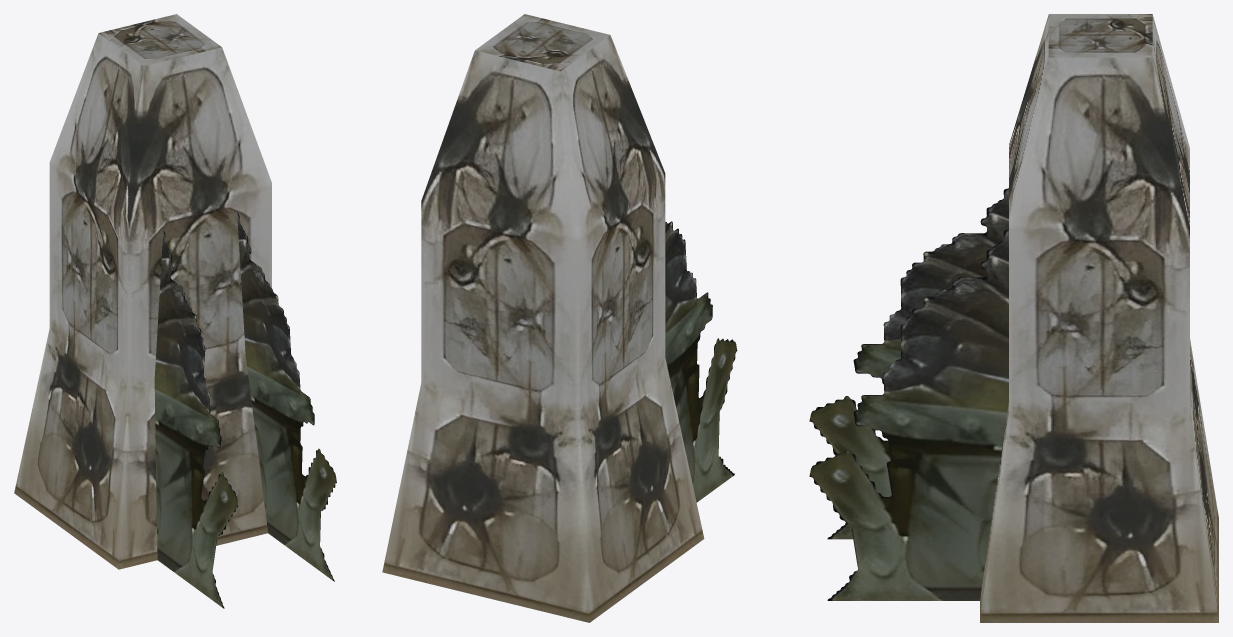
File: l_heavywall_dam_hdtex.glb
3 renders of one model, left to right at view 1: azimuth 30°, elevation 25°; view 2: azimuth 150°, elevation 25°; view 3: azimuth 270°, elevation 25°, orthographic. The views are drawn at different scales.
Visible parts, largest first — view 1: L_HeavyWallDAM; view 2: L_HeavyWallDAM; view 3: L_HeavyWallDAM.
Boxes of the visible parts, box(x1,y1,x2,y2) form: L_HeavyWallDAM: box(14, 14, 336, 608); L_HeavyWallDAM: box(382, 14, 737, 622); L_HeavyWallDAM: box(809, 14, 1218, 622).
Bounding box in the file's own units: 7.52 × 17.81 × 13.13.
1 material, 1 textured.
